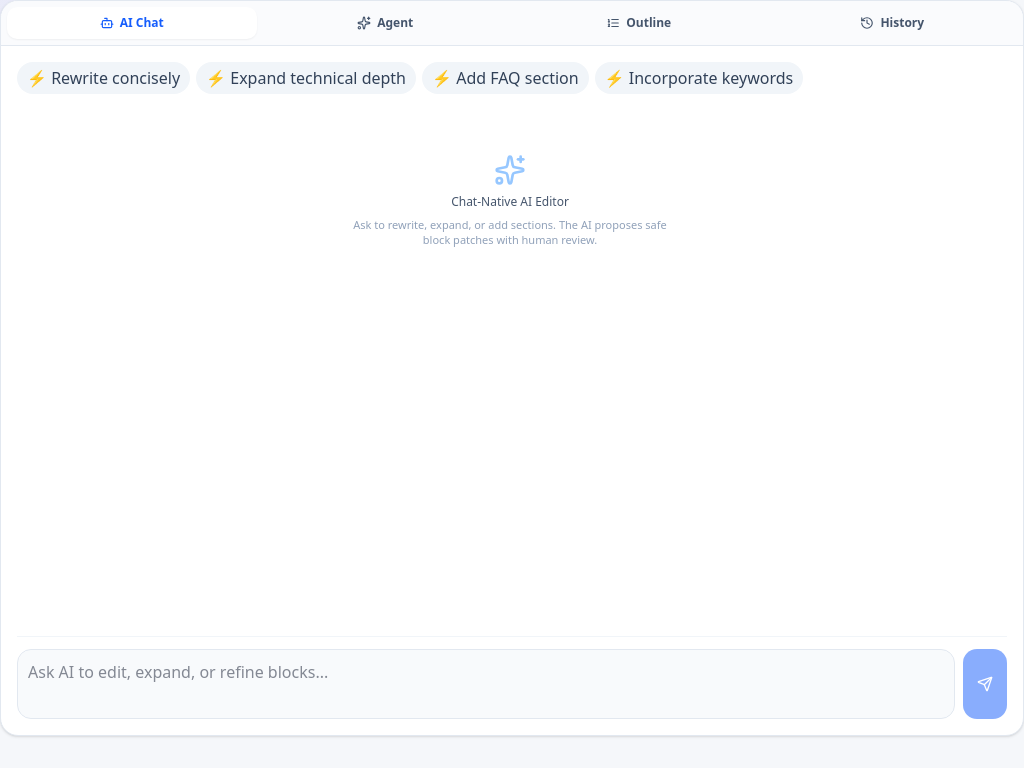
Test: Phase 6 — EditorSidebar Agent Tab Integration › switches to Agent tab and renders quick recipes and input box
The width and height of the screenshot is (1024, 768).
Click the button with test id "tab-workflows": (385, 23) [260,7,510,39]
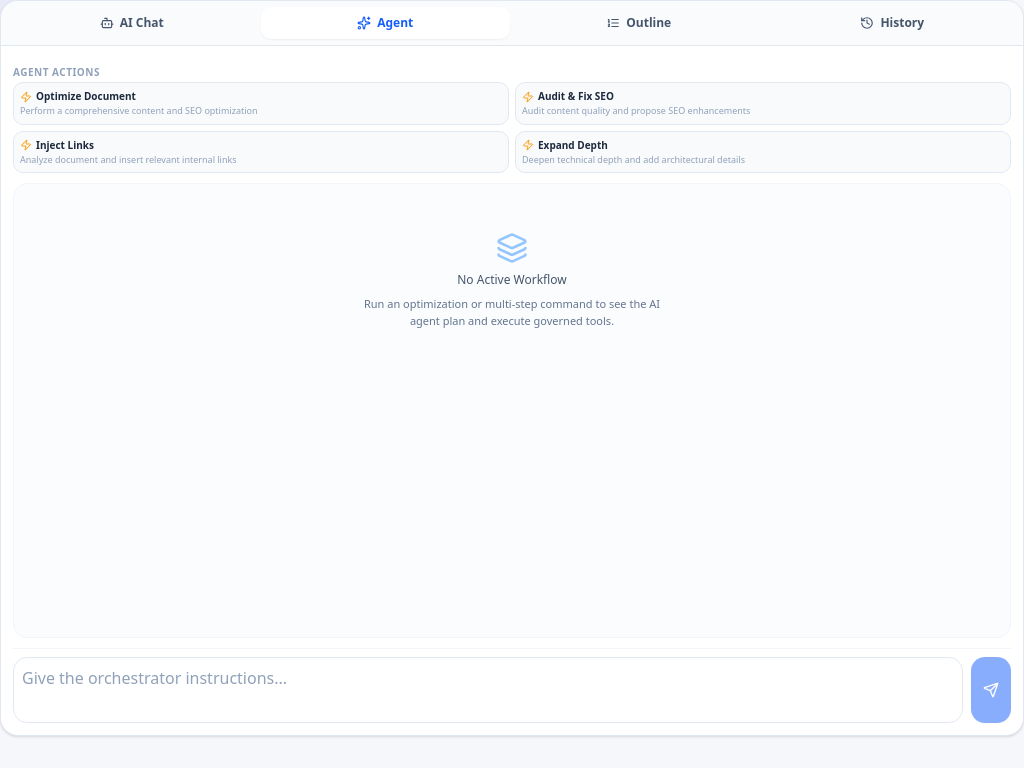
Expected: the element with test id "workflows-tab-content" is shown
Expected: the text "Agent Actions" is shown, [13,65,100,79]
Expected: the text "Optimize Document" is shown, [20,89,136,103]
